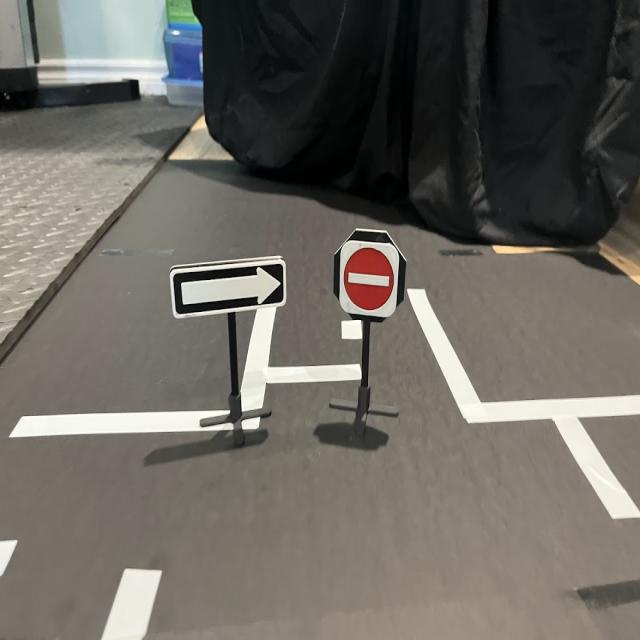sign_noentry: (340, 242, 402, 320)
sign_oneway_right: (170, 253, 288, 323)
